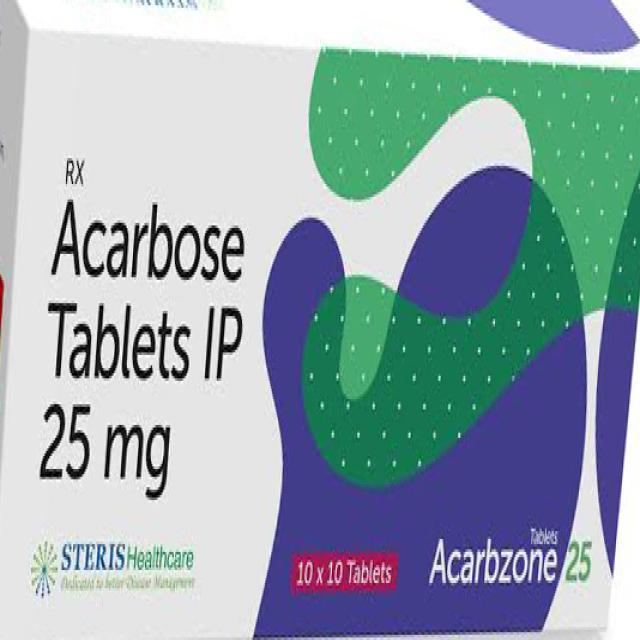drug-name: (425, 537, 599, 589)
